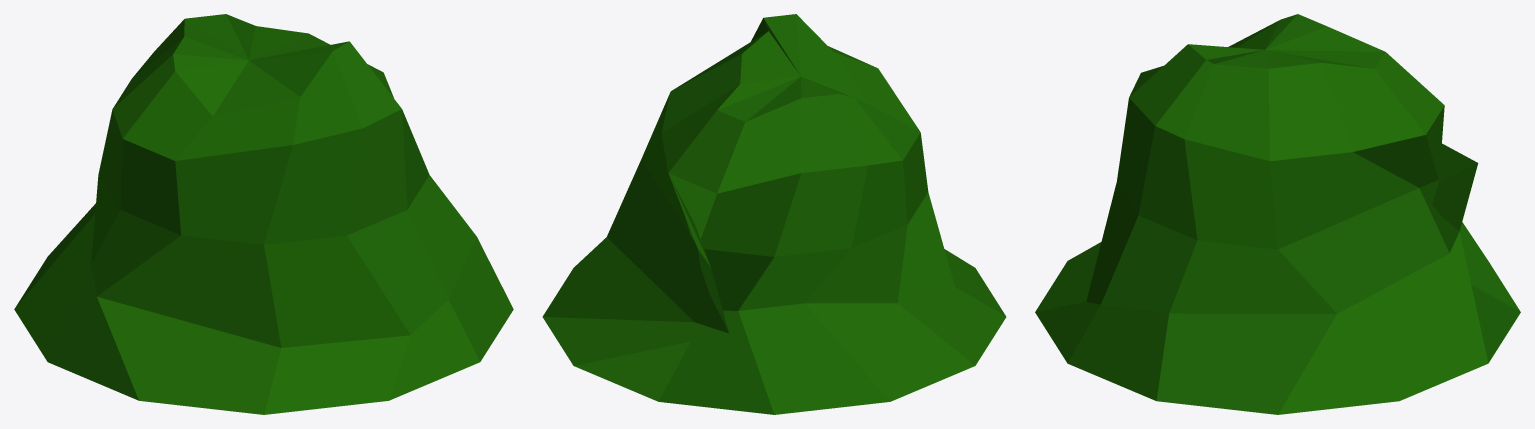
File: bush.fbx
The picture shows the model from 3 angles, left to right: view 1: azimuth 30°, elevation 25°; view 2: azimuth 150°, elevation 25°; view 3: azimuth 270°, elevation 25°; orthographic projection. The views are drawn at different scales.
Parts seen in each view (by area): view 1: Сфера; view 2: Сфера; view 3: Сфера.
Boxes of the visible parts, box(x1,y1,x2,y2) form: Сфера: box(14, 14, 513, 414); Сфера: box(542, 14, 1006, 414); Сфера: box(1035, 14, 1520, 414).
Bounding box in the file's own units: 302 × 198 × 302.
